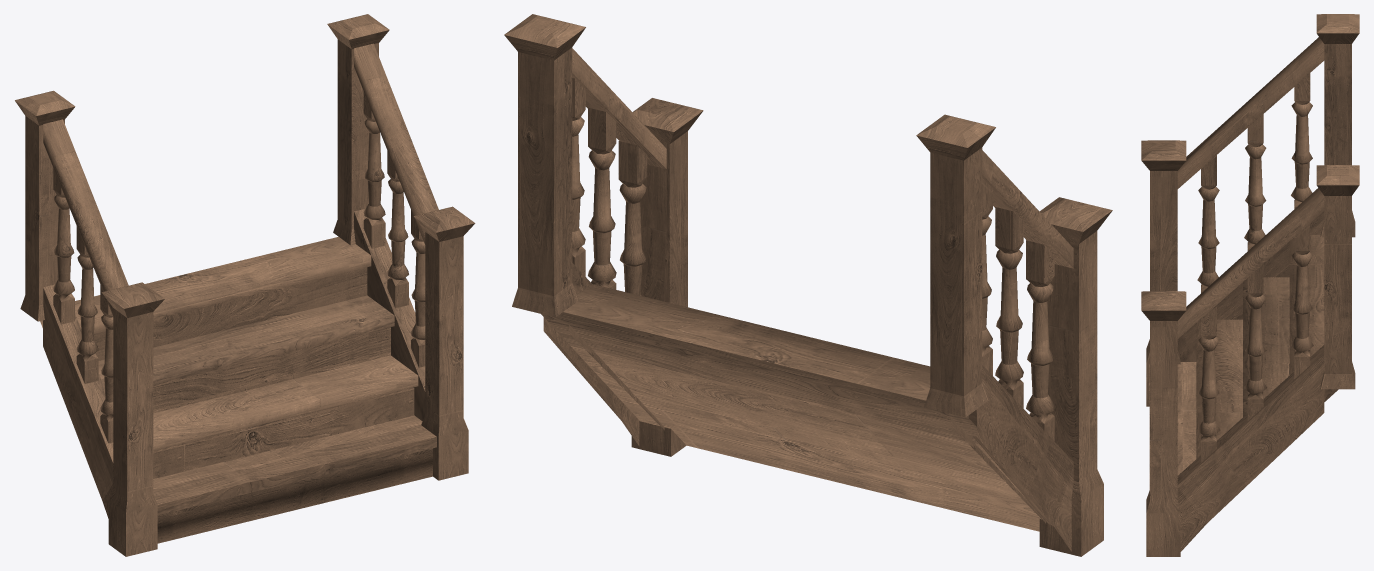
File: StairsInt1x1-1A-bottomless.fbx
3 views of the same model, side by side, from view 1: azimuth 30°, elevation 25°; view 2: azimuth 150°, elevation 25°; view 3: azimuth 270°, elevation 25° (orthographic). The views are drawn at different scales.
Parts seen in each view (by area): view 1: StairsInt1x1-1A-bottomless, StairsInt1x1-1A-bottomless-LeftRailing, StairsInt1x1-1A-bottomless-RightRailing; view 2: StairsInt1x1-1A-bottomless, StairsInt1x1-1A-bottomless-LeftRailing, StairsInt1x1-1A-bottomless-RightRailing; view 3: StairsInt1x1-1A-bottomless-RightRailing, StairsInt1x1-1A-bottomless-LeftRailing, StairsInt1x1-1A-bottomless.
Part boxes in pixels (bbox=[...]): StairsInt1x1-1A-bottomless: bbox=[40, 237, 436, 543]; StairsInt1x1-1A-bottomless-LeftRailing: bbox=[15, 90, 164, 556]; StairsInt1x1-1A-bottomless-RightRailing: bbox=[327, 14, 475, 480]; StairsInt1x1-1A-bottomless: bbox=[541, 284, 1041, 531]; StairsInt1x1-1A-bottomless-LeftRailing: bbox=[916, 114, 1112, 556]; StairsInt1x1-1A-bottomless-RightRailing: bbox=[504, 14, 703, 456]; StairsInt1x1-1A-bottomless-RightRailing: bbox=[1141, 165, 1359, 556]; StairsInt1x1-1A-bottomless-LeftRailing: bbox=[1141, 14, 1359, 406]; StairsInt1x1-1A-bottomless: bbox=[1149, 235, 1338, 489].
Bounding box in the file's own units: 217 × 225 × 117.
